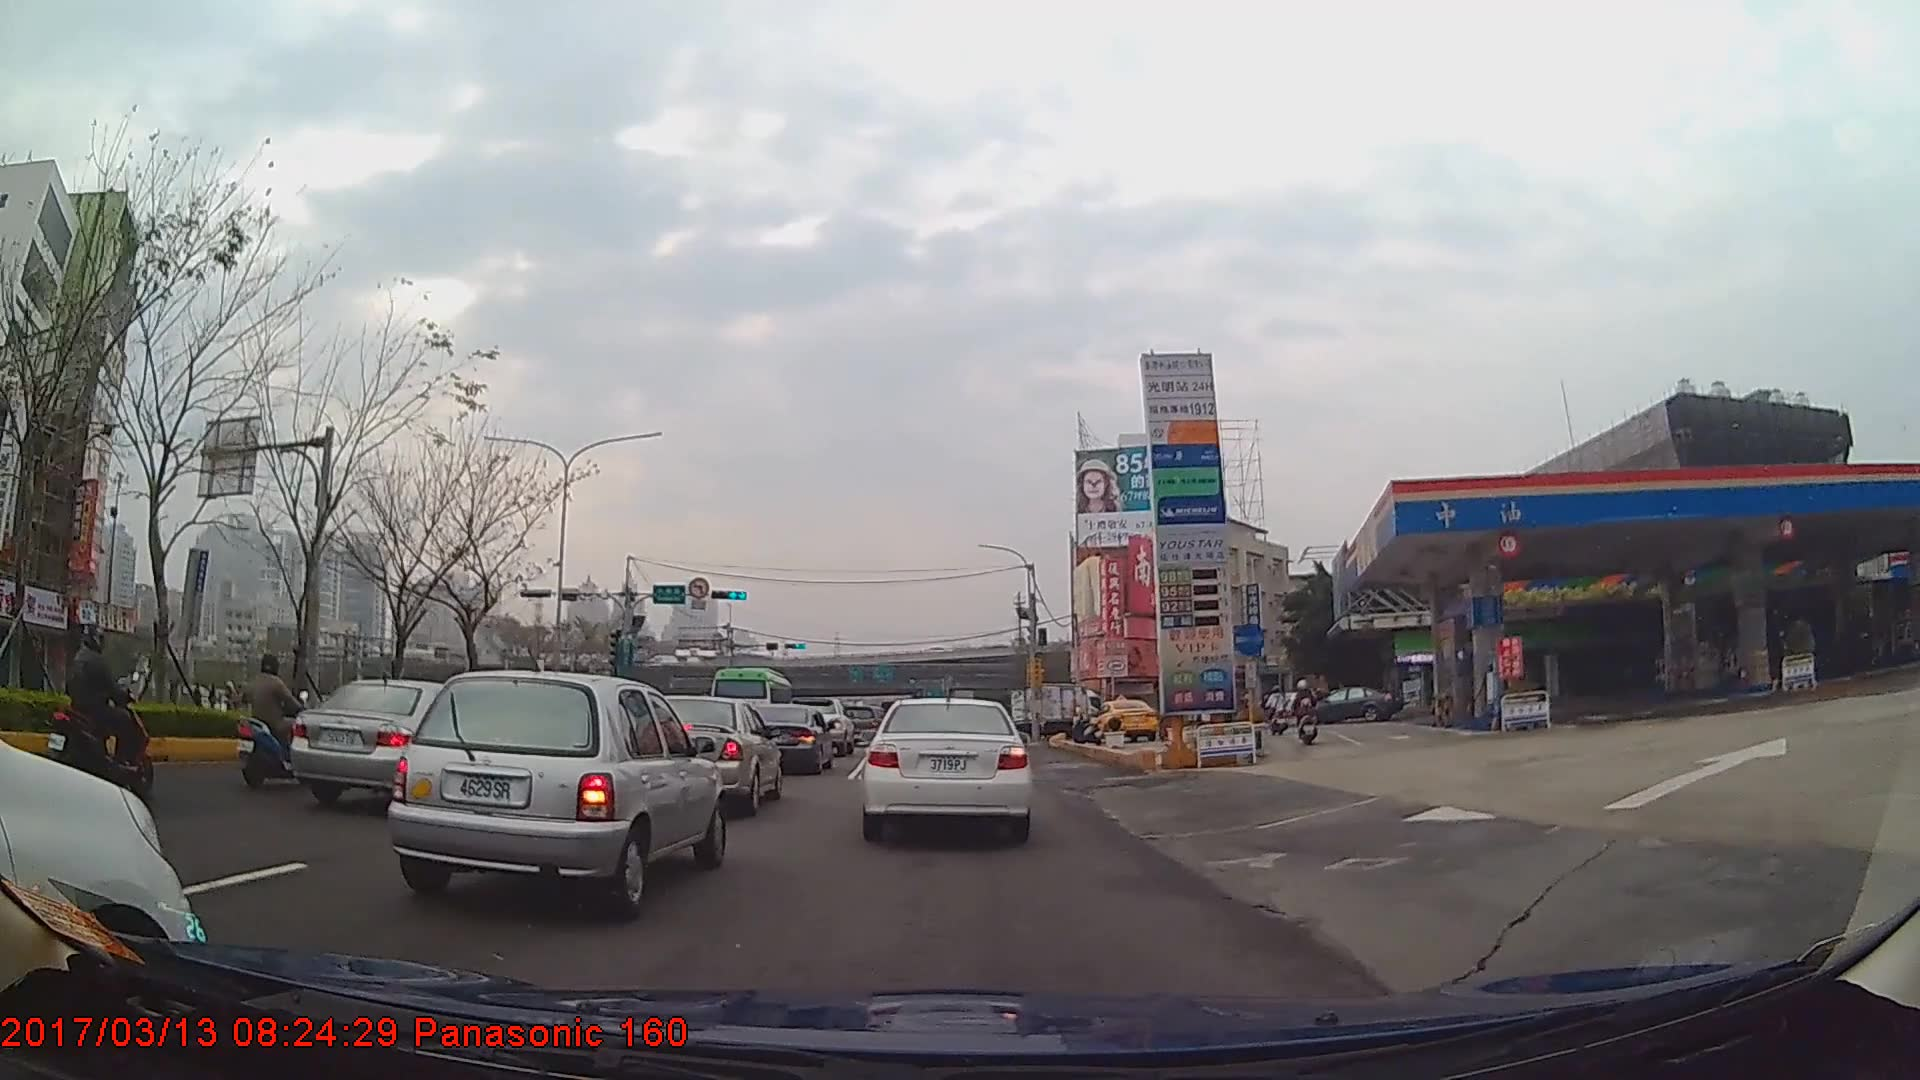rider: (51, 621, 148, 776), (235, 653, 315, 795), (1292, 683, 1320, 750), (1267, 688, 1290, 742)
vehicle: (389, 666, 726, 918), (288, 674, 517, 811), (860, 692, 1033, 844), (631, 695, 783, 816), (745, 702, 835, 775), (708, 665, 797, 734), (1005, 683, 1102, 742), (1301, 686, 1401, 726), (1089, 697, 1157, 743)
